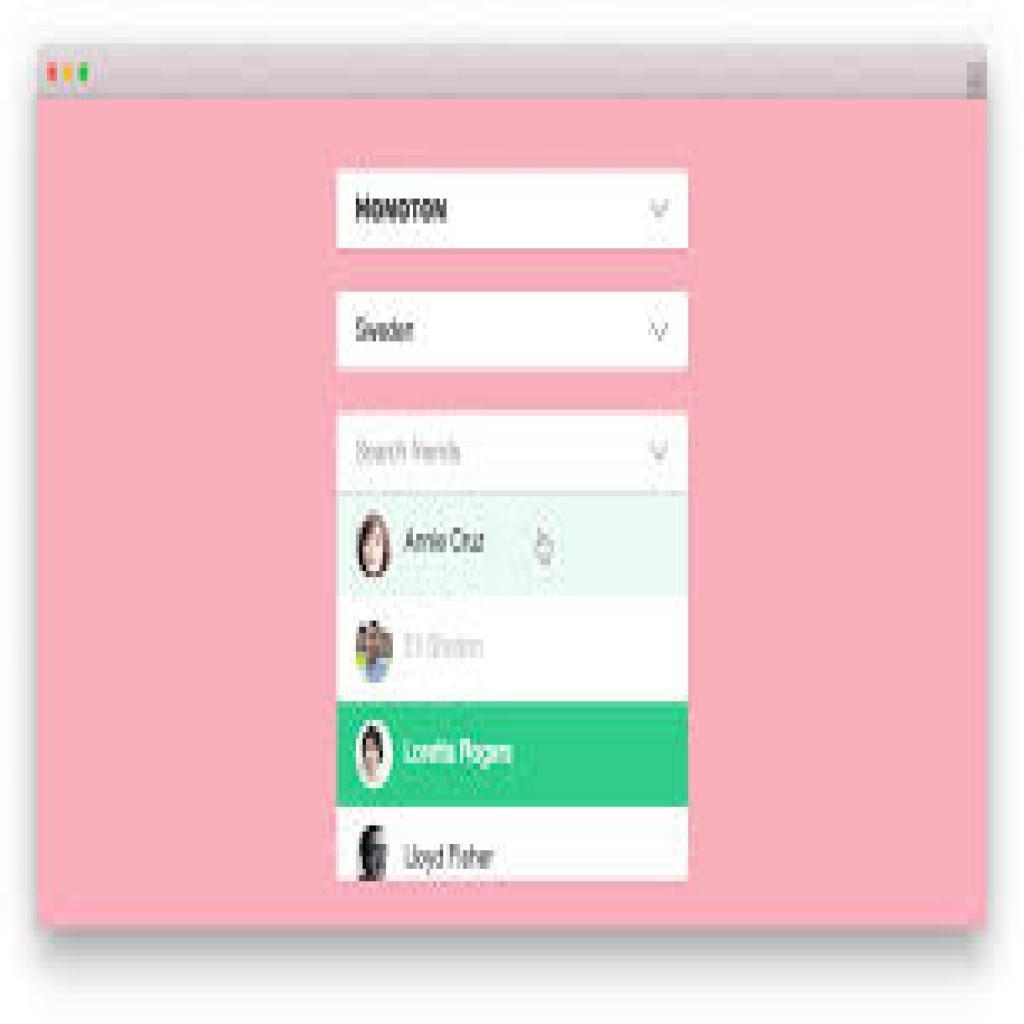button: (337, 702, 691, 807)
dropdown: (335, 288, 690, 370), (339, 166, 689, 248), (333, 413, 693, 492)
